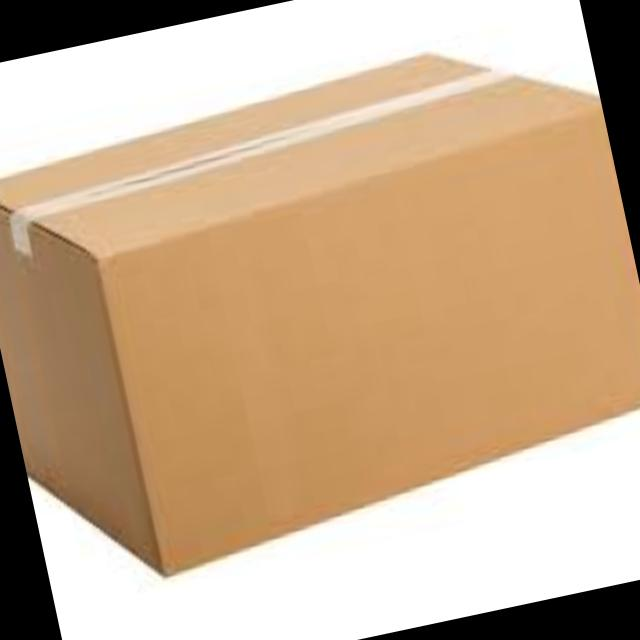cardboard paper: (0, 51, 640, 568)
